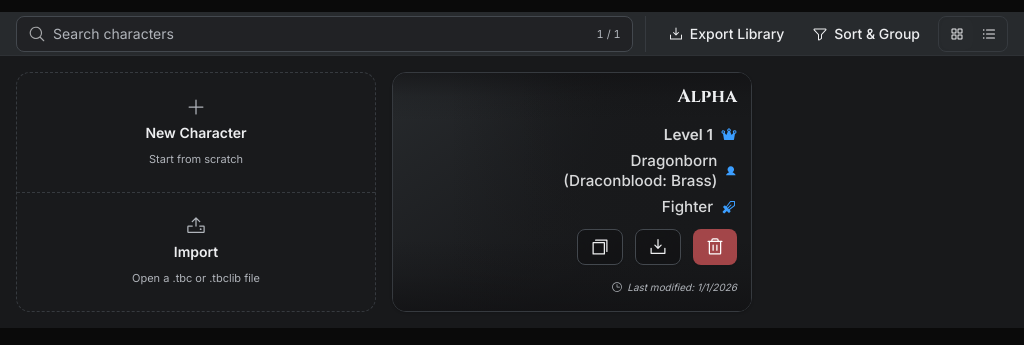
Scenario: home page integration workflows › switches to the dense list view and remembers the choice
Click the button named "List view" at x=989, y=34, box top-left (973, 18), bottom-right (1005, 50)
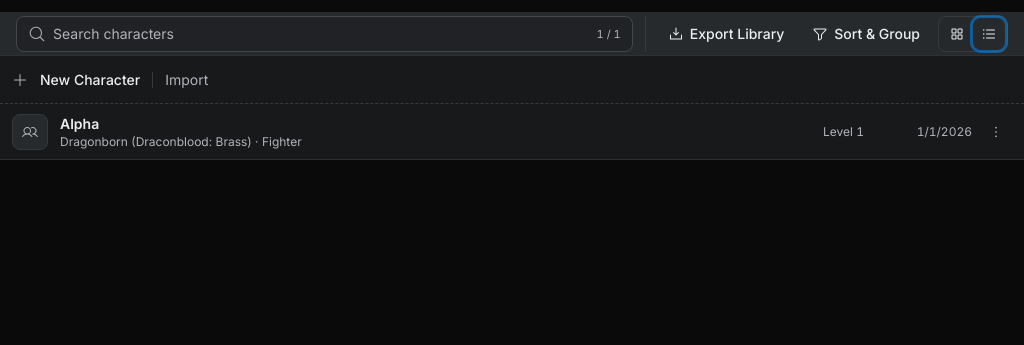
Result: the button named "Actions for Alpha" is shown at top-left (980, 116), bottom-right (1012, 148)
Result: the text "Dragonborn (Draconblood: Brass) · Fighter" is shown at top-left (60, 134), bottom-right (302, 148)
